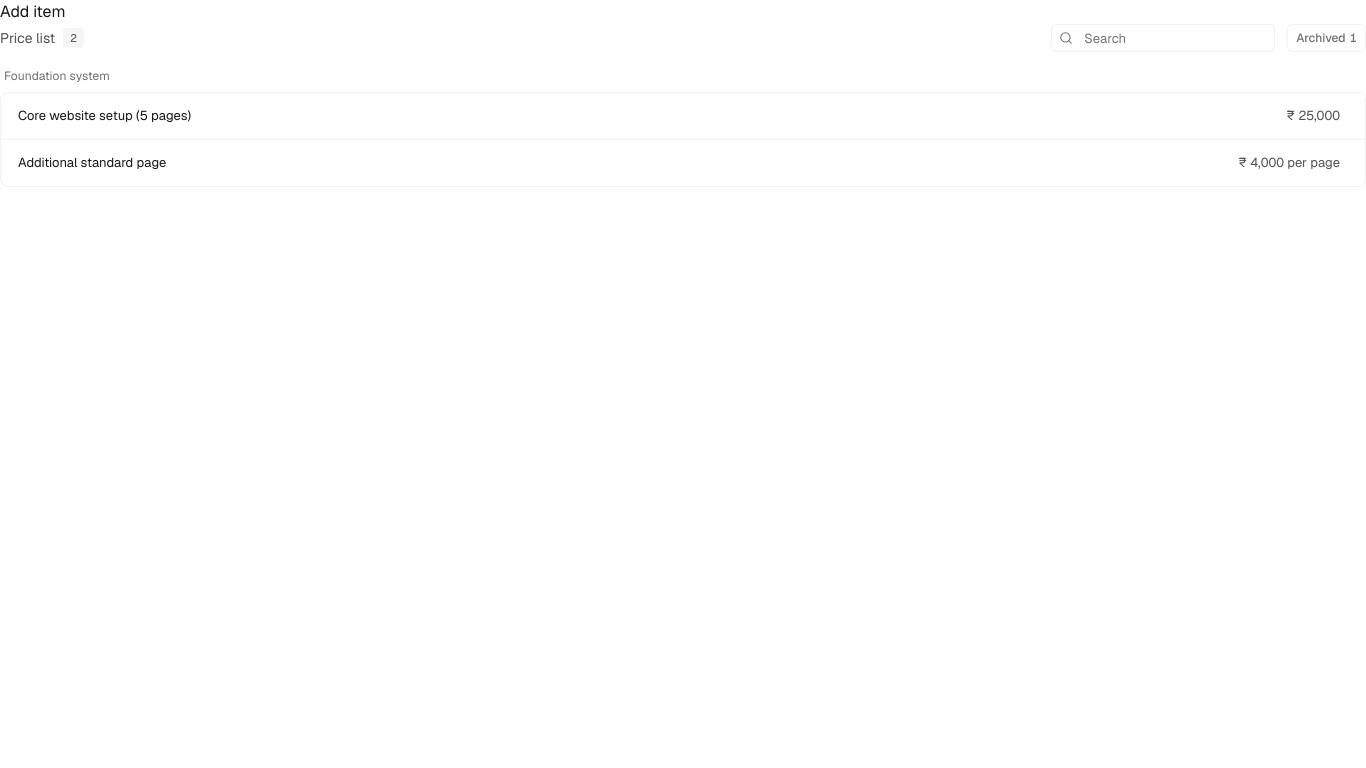
Test case: editing one item › opens the panel on the item that was clicked
The width and height of the screenshot is (1366, 768).
Click the button "Core website setup (5 pages)": click(105, 116) x1=17 y1=105 x2=1261 y2=127
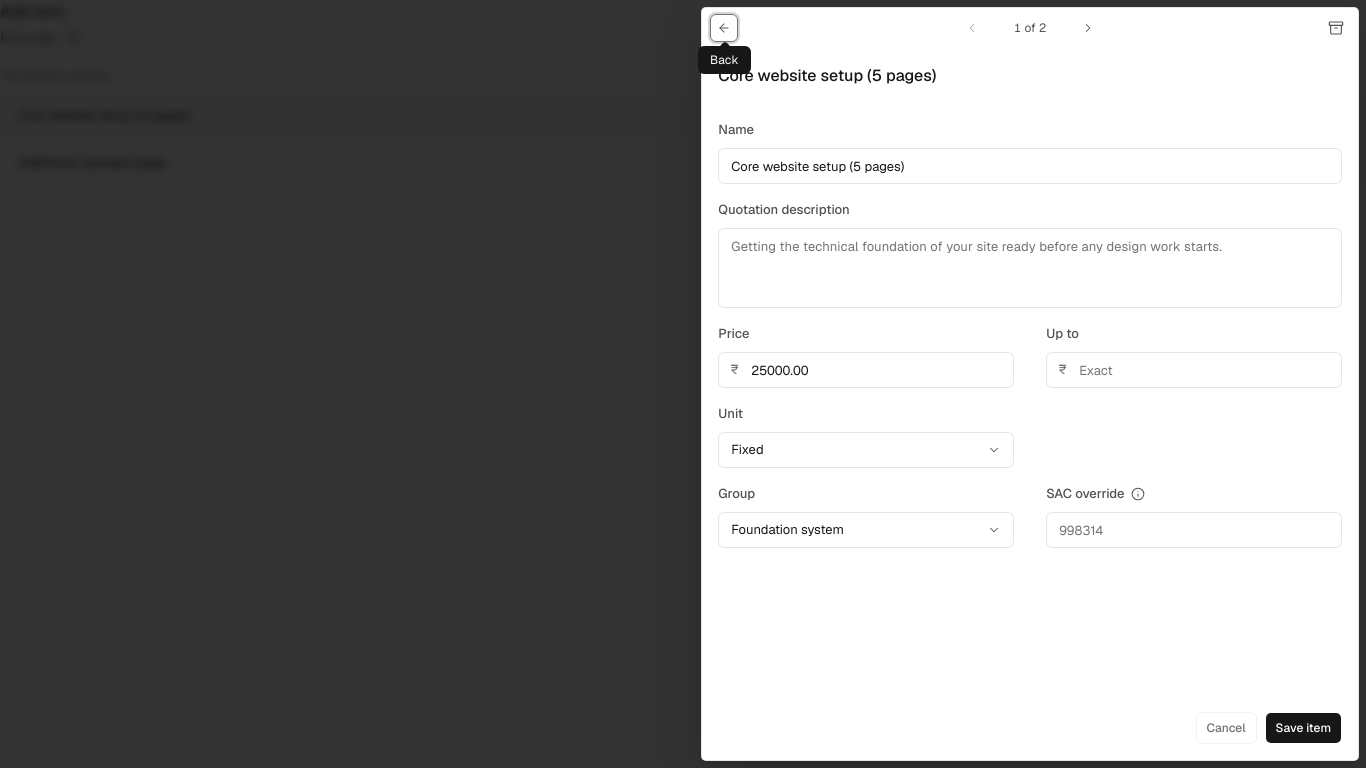
Now the field labelled "Name" holds "Core website setup (5 pages)", box x1=718 y1=148 x2=1342 y2=184
Now the field labelled "Price" holds "25000.00", box x1=718 y1=352 x2=1014 y2=388
